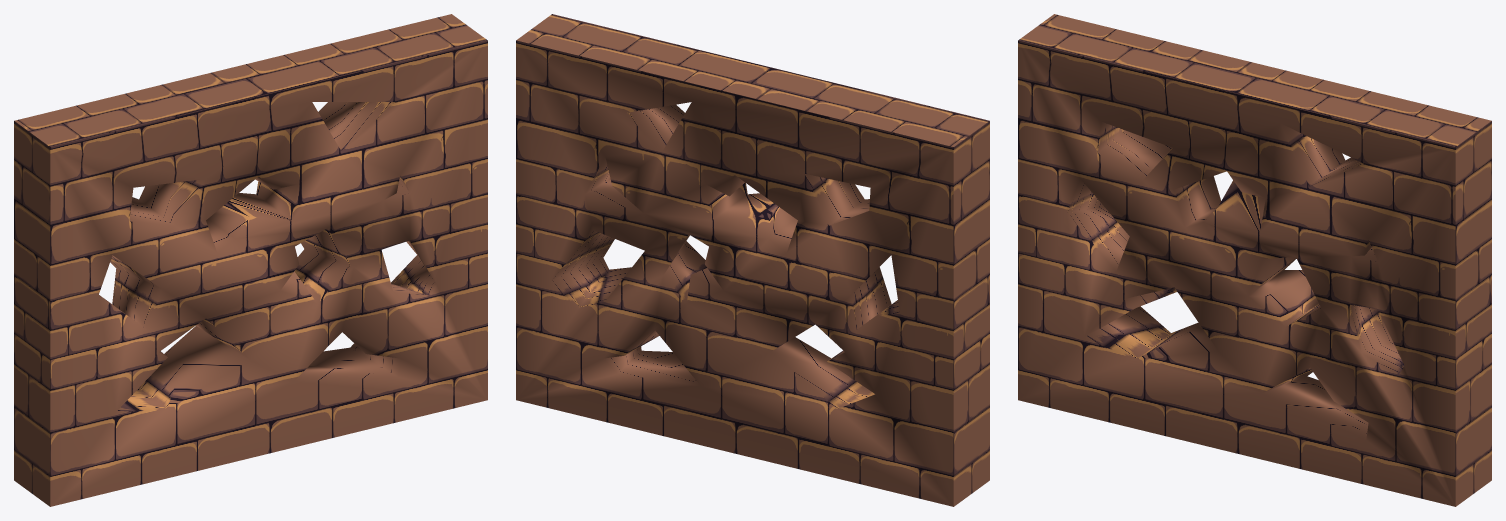
The picture shows the model from 3 angles, left to right: view 1: azimuth 30°, elevation 25°; view 2: azimuth 150°, elevation 25°; view 3: azimuth 330°, elevation 25°; orthographic projection.
Visible parts, largest first — view 1: BreakableWall; view 2: BreakableWall; view 3: BreakableWall.
Boxes of the visible parts, x1,y1,x2,y2 form: BreakableWall: [14, 14, 487, 506]; BreakableWall: [516, 14, 989, 506]; BreakableWall: [1018, 14, 1491, 506].
Bounding box in the file's own units: 700 × 550 × 100.
